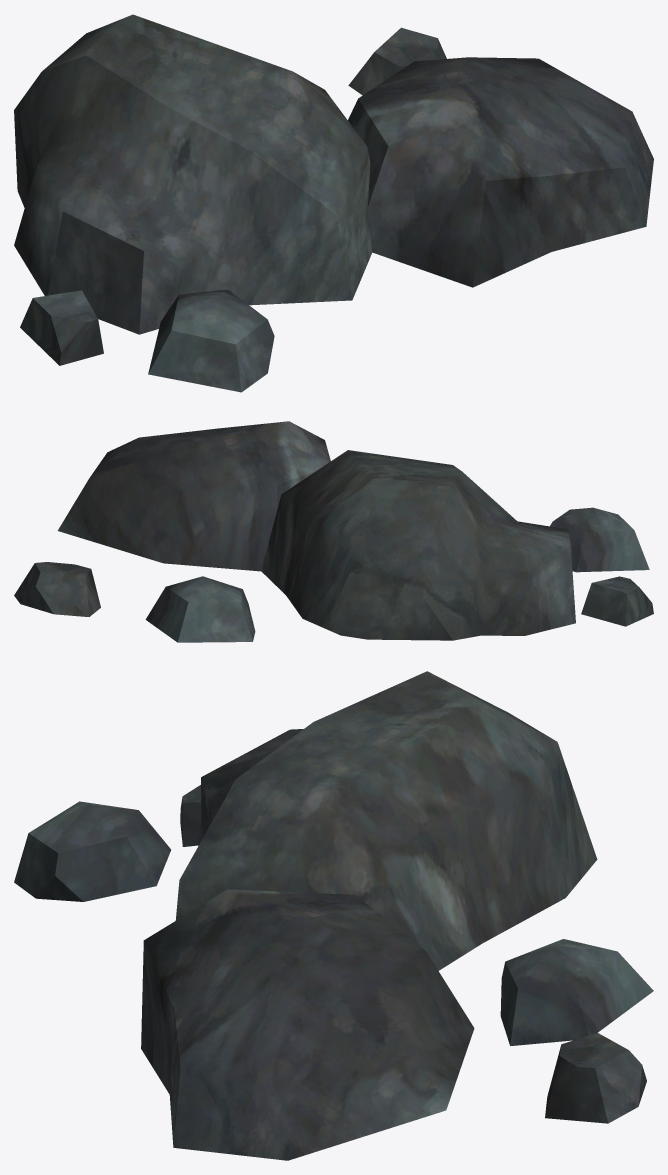
File: object_rubble14.fbx
The picture shows the model from 3 angles, top to bottom: view 1: azimuth 30°, elevation 25°; view 2: azimuth 150°, elevation 25°; view 3: azimuth 270°, elevation 25°; orthographic projection. The views are drawn at different scales.
Visible parts, largest first — view 1: Material_#238683587/cliffside; view 2: Material_#238683587/cliffside; view 3: Material_#238683587/cliffside.
Boxes of the visible parts, box(x1,y1,x2,y2) form: Material_#238683587/cliffside: box(14, 14, 653, 392); Material_#238683587/cliffside: box(14, 421, 653, 642); Material_#238683587/cliffside: box(14, 671, 653, 1160).
Bounding box in the file's own units: 2.48 × 0.7793 × 1.87.
